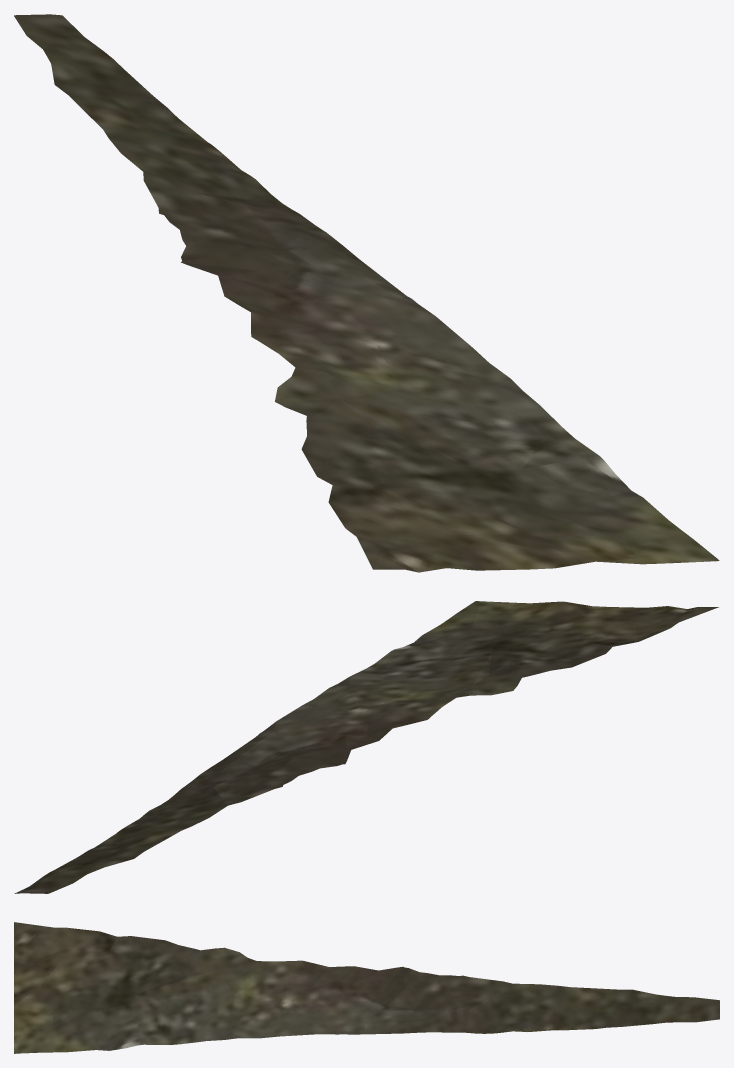
3 views of the same model, one above another, from view 1: azimuth 30°, elevation 25°; view 2: azimuth 150°, elevation 25°; view 3: azimuth 270°, elevation 25° (orthographic). The views are drawn at different scales.
Bounding box in the file's own units: 0.2553 × 0.0536 × 0.8373.
1 material, 1 textured.
